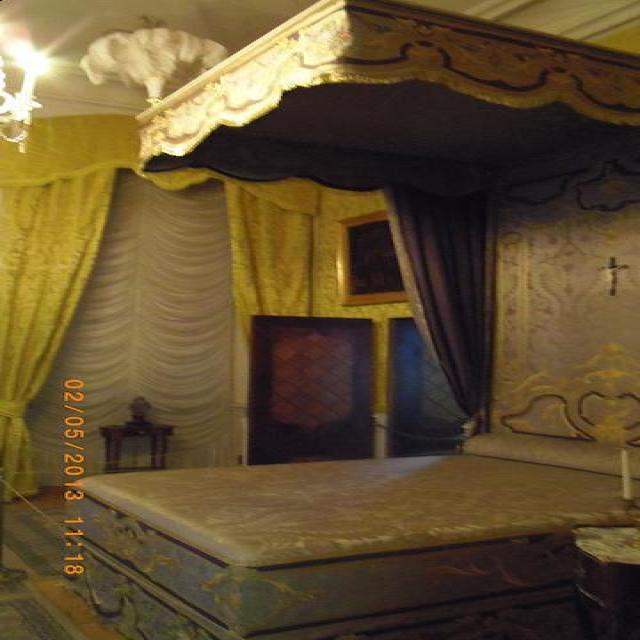bed: (66, 226, 640, 624)
